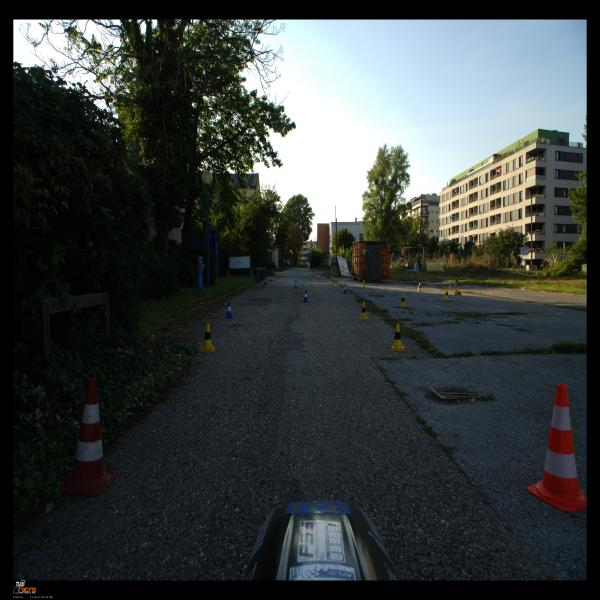blue_cone: (224, 301, 235, 319), (302, 290, 310, 302), (342, 284, 349, 294), (294, 280, 298, 289), (263, 278, 267, 285), (270, 276, 273, 282)
large_orange_cone: (528, 383, 587, 512), (59, 378, 117, 496)
orange_cone: (318, 274, 320, 280), (276, 273, 278, 279)
yellow_cone: (200, 323, 216, 352), (391, 324, 405, 352), (359, 302, 369, 320), (399, 294, 407, 308), (442, 289, 450, 300), (455, 288, 462, 296), (417, 283, 422, 291), (362, 280, 366, 288), (330, 277, 333, 284), (318, 275, 321, 282)
